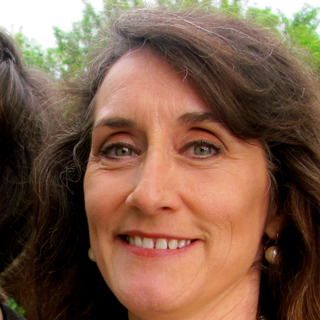eye: (174, 134, 227, 165), (94, 135, 144, 165)
